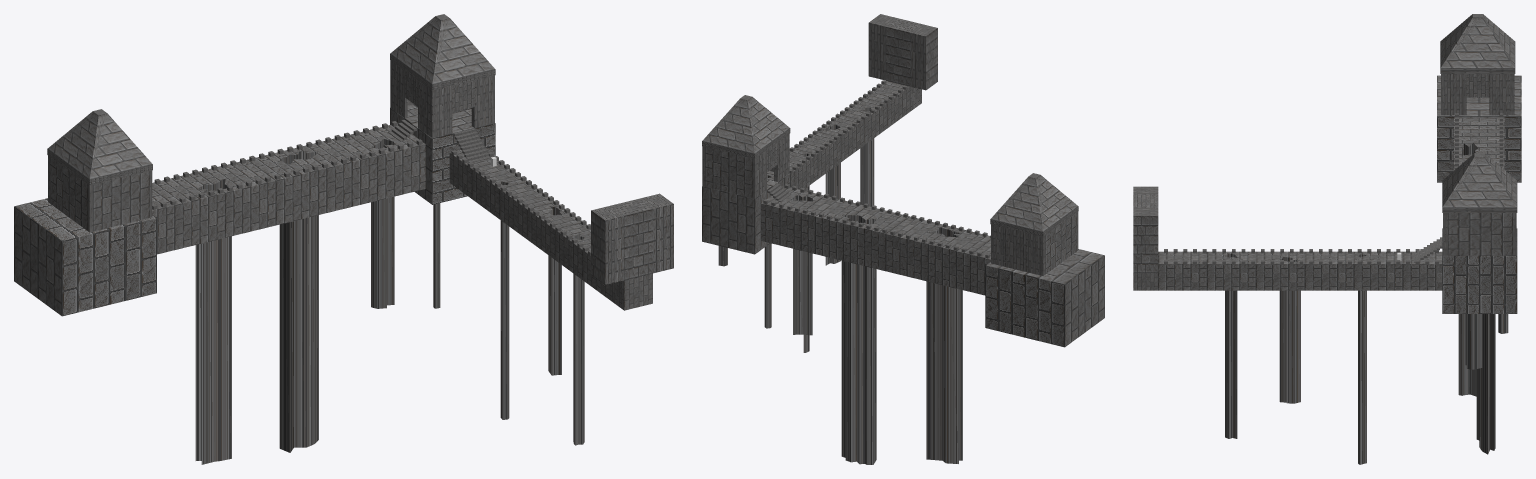
File: danica_level4_holes.glb
The picture shows the model from 3 angles, left to right: view 1: azimuth 30°, elevation 25°; view 2: azimuth 150°, elevation 25°; view 3: azimuth 270°, elevation 25°; orthographic projection. The views are drawn at different scales.
Parts seen in each view (by area): view 1: Cube.001, Cube.004, Cube.005, Cube.002, Cube.006; view 2: Cube.001, Cube.005, Cube.004, Cube.002, Cube.003; view 3: Cube.001, Cube.003, Cube.002.
Part boxes in pixels (box(x1,y1,x2,y2)): Cube.001: box(14, 14, 673, 464); Cube.004: box(152, 139, 422, 209); Cube.005: box(154, 121, 397, 184); Cube.002: box(451, 150, 590, 256); Cube.006: box(453, 128, 490, 162); Cube.001: box(702, 14, 1104, 464); Cube.005: box(763, 199, 990, 258); Cube.004: box(784, 184, 990, 238); Cube.002: box(789, 85, 907, 173); Cube.003: box(789, 80, 886, 153); Cube.001: box(1133, 14, 1521, 464); Cube.003: box(1164, 260, 1438, 264); Cube.002: box(1164, 249, 1438, 253).
Bounding box in the file's own units: 457 × 394 × 395.
1 material, 1 textured.
